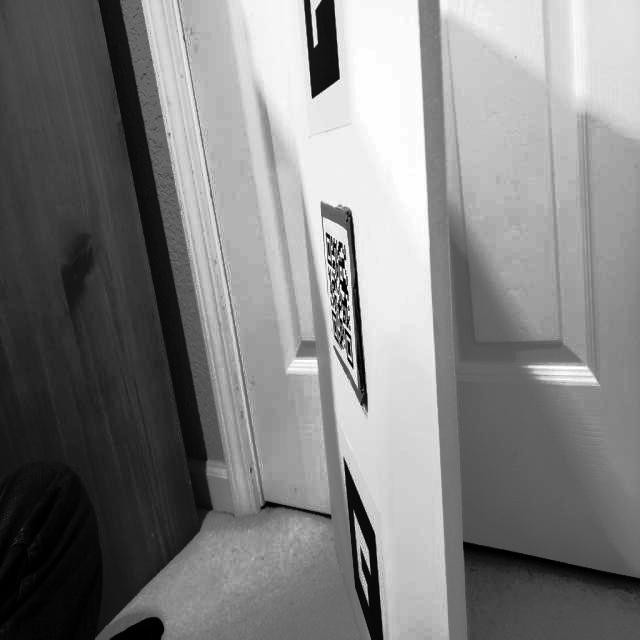qr_code: (320, 225, 364, 379)
